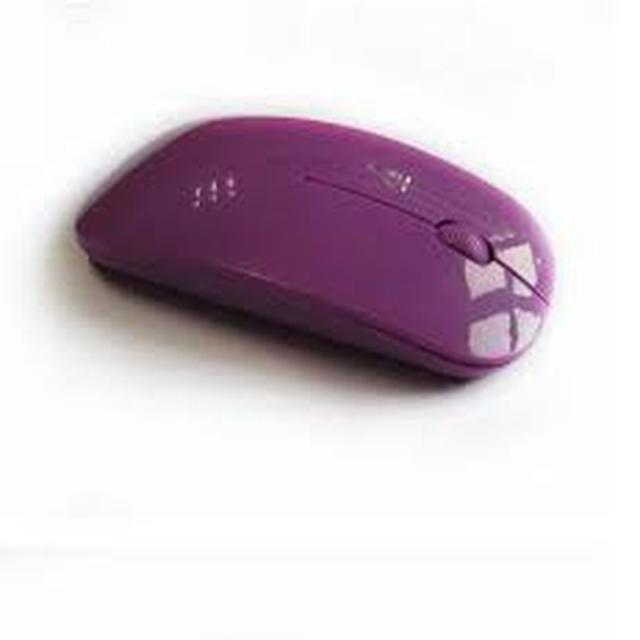mouse: (48, 59, 588, 405)
